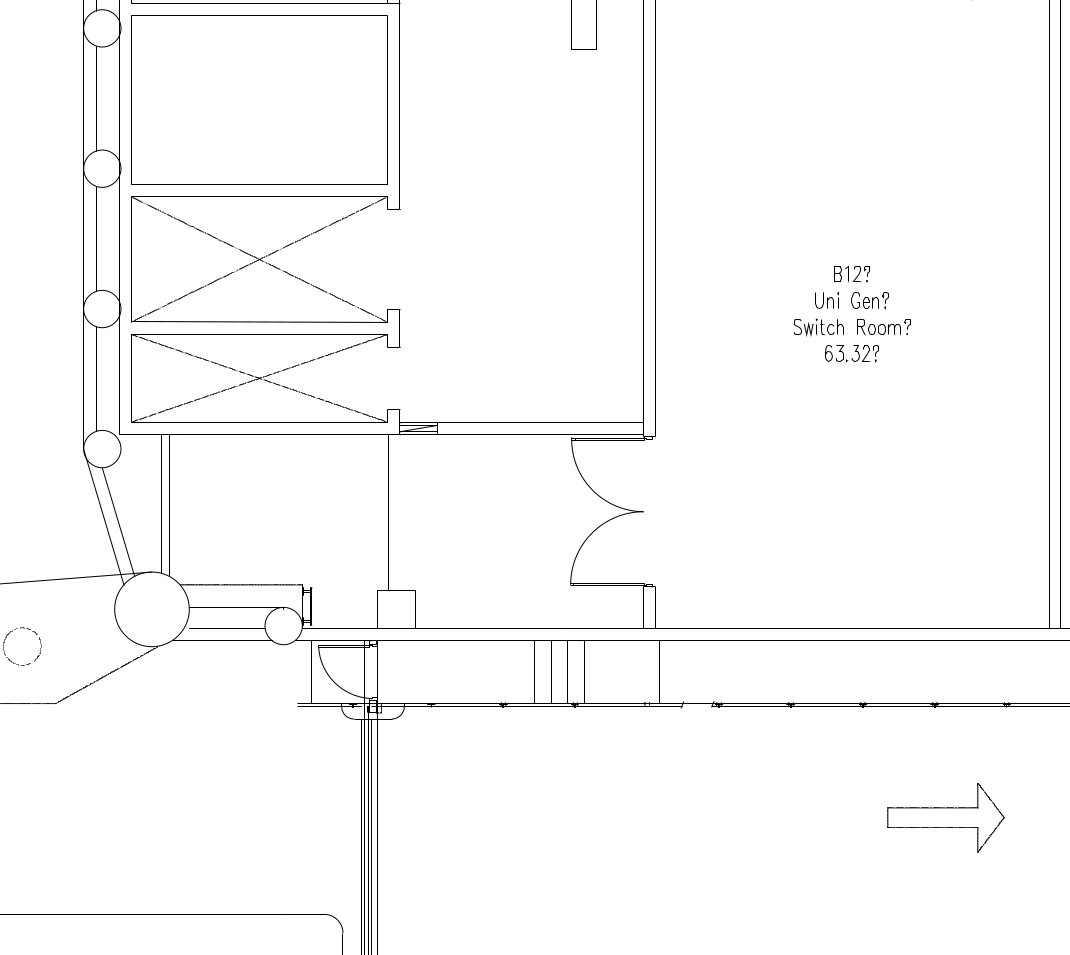door: (561, 436, 659, 589), (316, 642, 366, 702)
